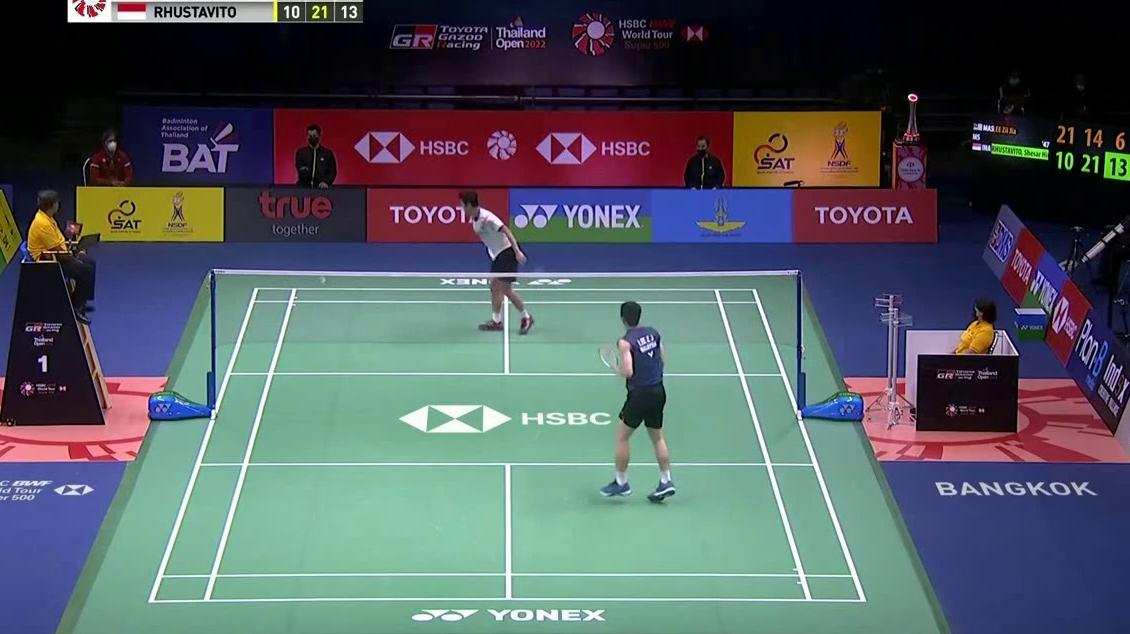racket: (596, 342, 621, 373)
shuttle: (318, 275, 327, 286)
